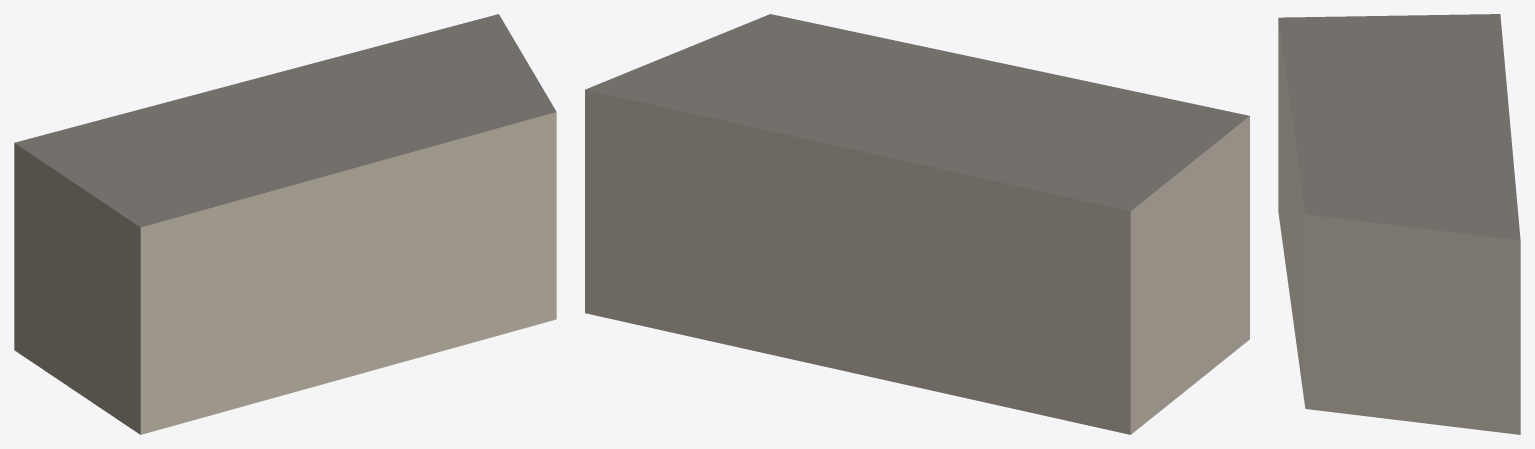
The picture shows the model from 3 angles, left to right: view 1: azimuth 30°, elevation 25°; view 2: azimuth 150°, elevation 25°; view 3: azimuth 270°, elevation 25°; orthographic projection. The views are drawn at different scales.
Parts seen in each view (by area): view 1: HP-w369317485; view 2: HP-w369317485; view 3: HP-w369317485.
Part boxes in pixels (bbox=[...]): HP-w369317485: bbox=[14, 14, 556, 434]; HP-w369317485: bbox=[585, 14, 1249, 434]; HP-w369317485: bbox=[1278, 14, 1520, 434].
Size of the model in its own units: 29.99 by 12 by 13.55.
